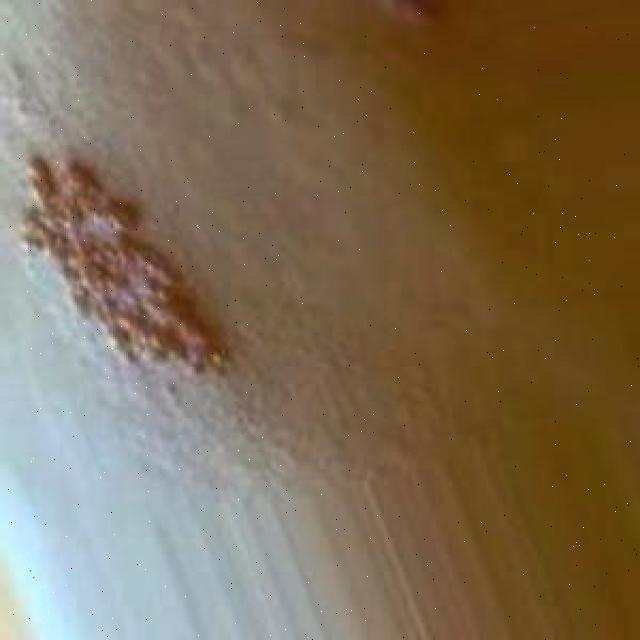Shingles: (18, 155, 232, 381)
